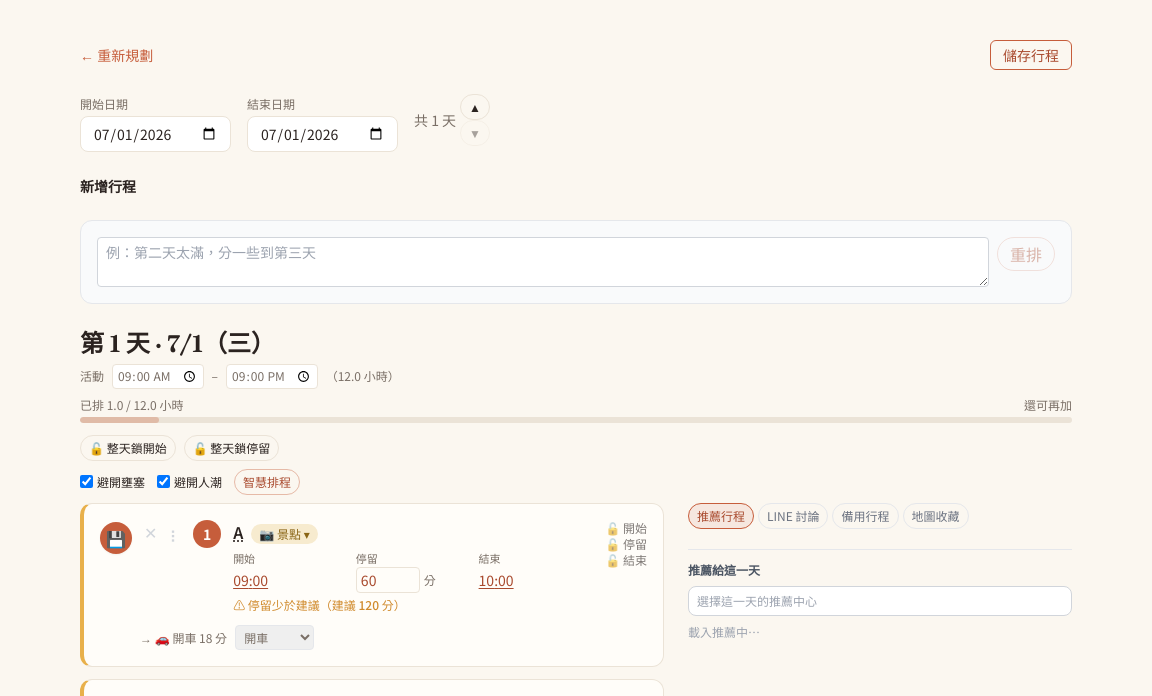
shows an error and keeps the leg when legInfo rejects
Select "步行" in the dropdown named "交通工具" at [275, 638], box x1=235 y1=625 x2=314 y2=650
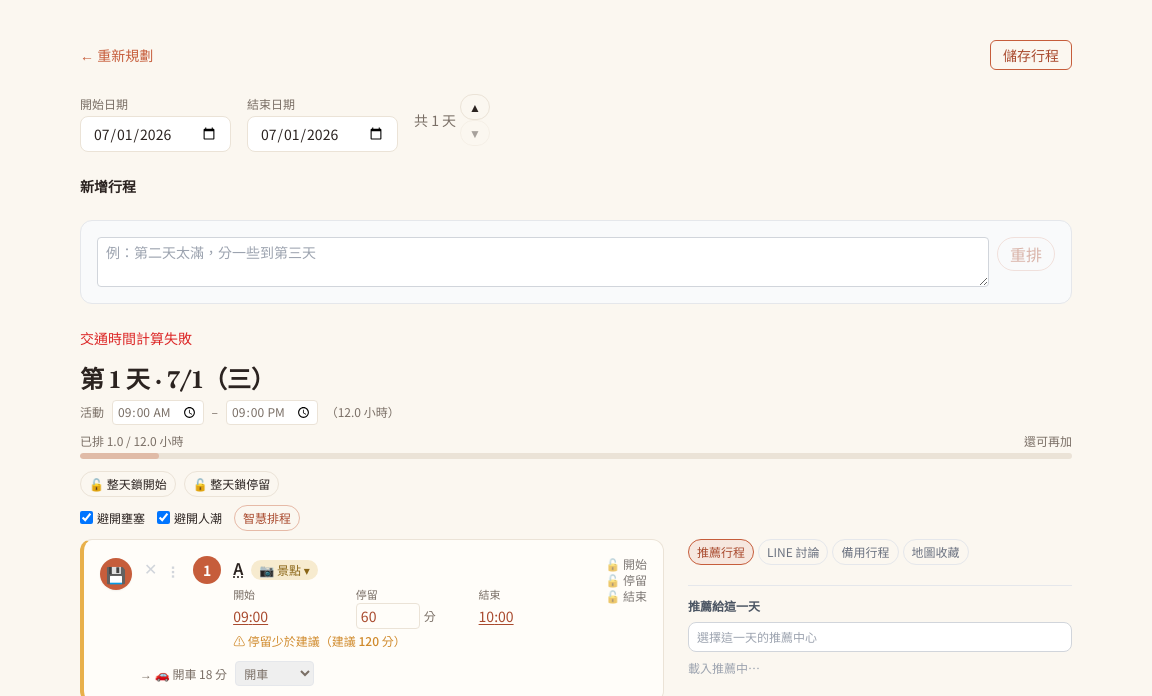
Expected: the text "→ 🚗 開車 18 分" is shown, x1=140 y1=666 x2=227 y2=682
Expected: the text "交通時間計算失敗" is shown, x1=80 y1=328 x2=192 y2=348
